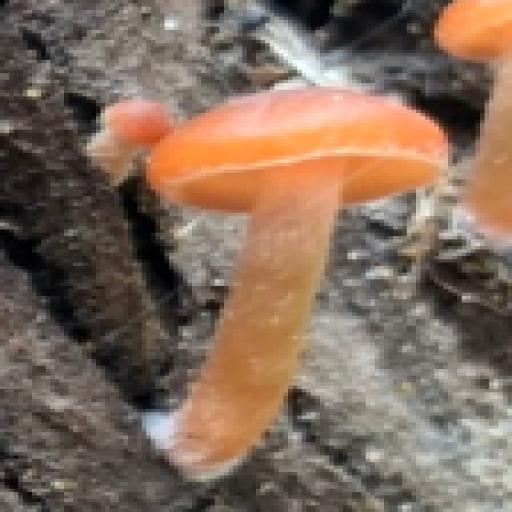mushroom: (129, 64, 457, 401)
